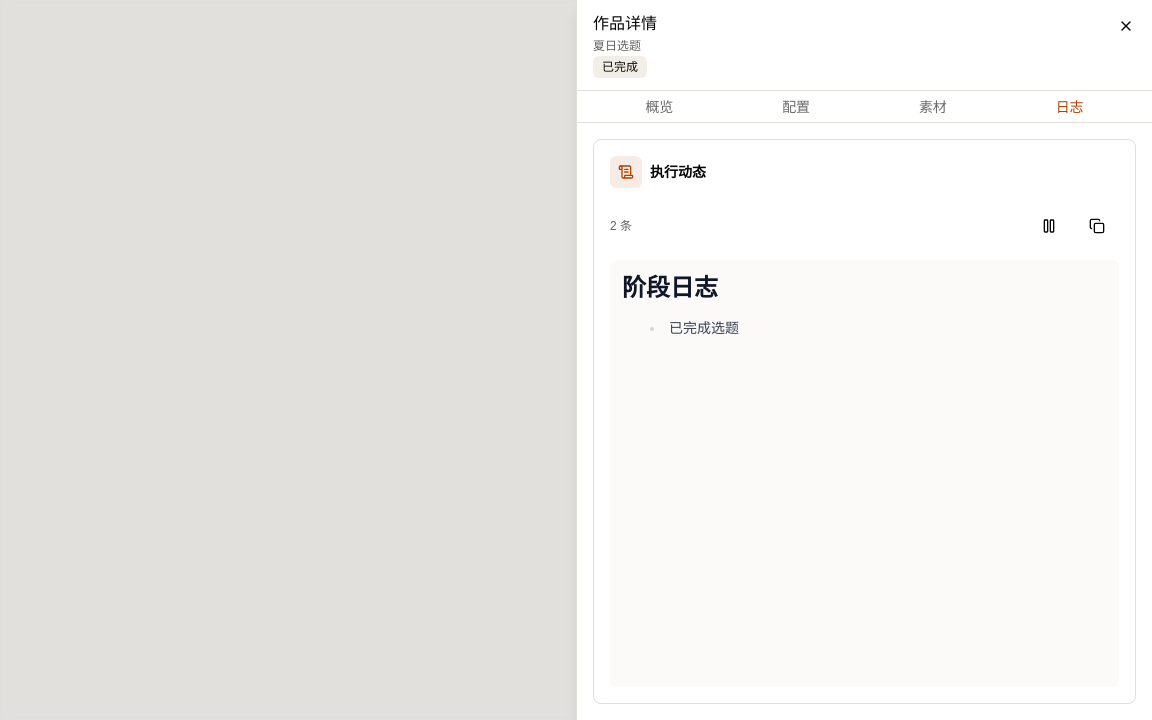
Test case: TaskDetailsSheet › renders the supplied tab and delegates tab changes to its owner
Expected: the heading "阶段日志" is shown, [622,274,718,301]
Step 1. Click the tab "配置" → (796, 106), box [730,84,863,128]
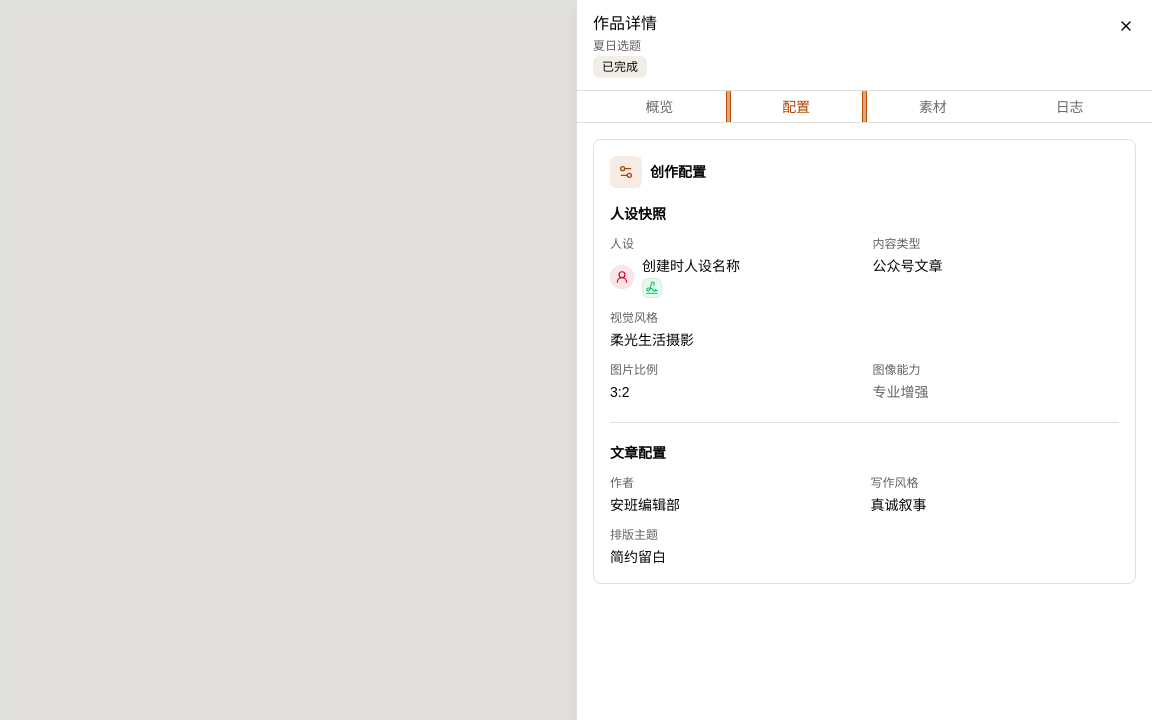
Expected: the text "柔光生活摄影" is shown, [610,332,694,348]
